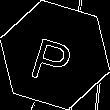P_N: (30, 26, 80, 84)
